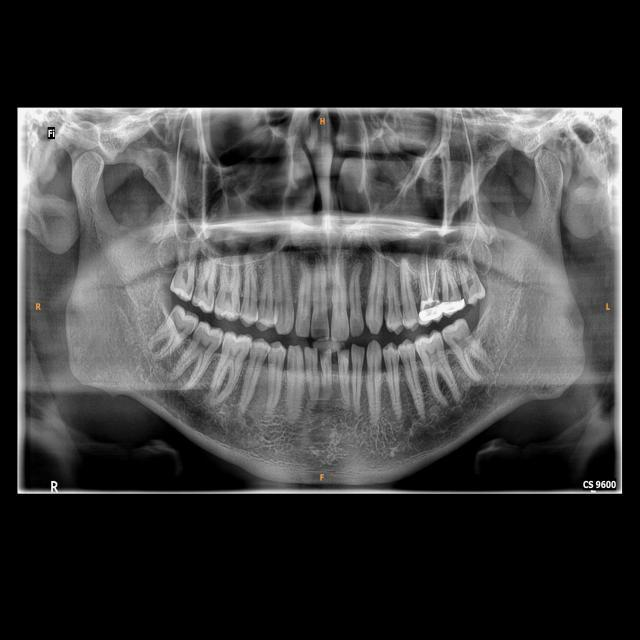kanal-tedavisi: (418, 252, 442, 305)
kaplama: (411, 298, 443, 324), (439, 294, 468, 316)
